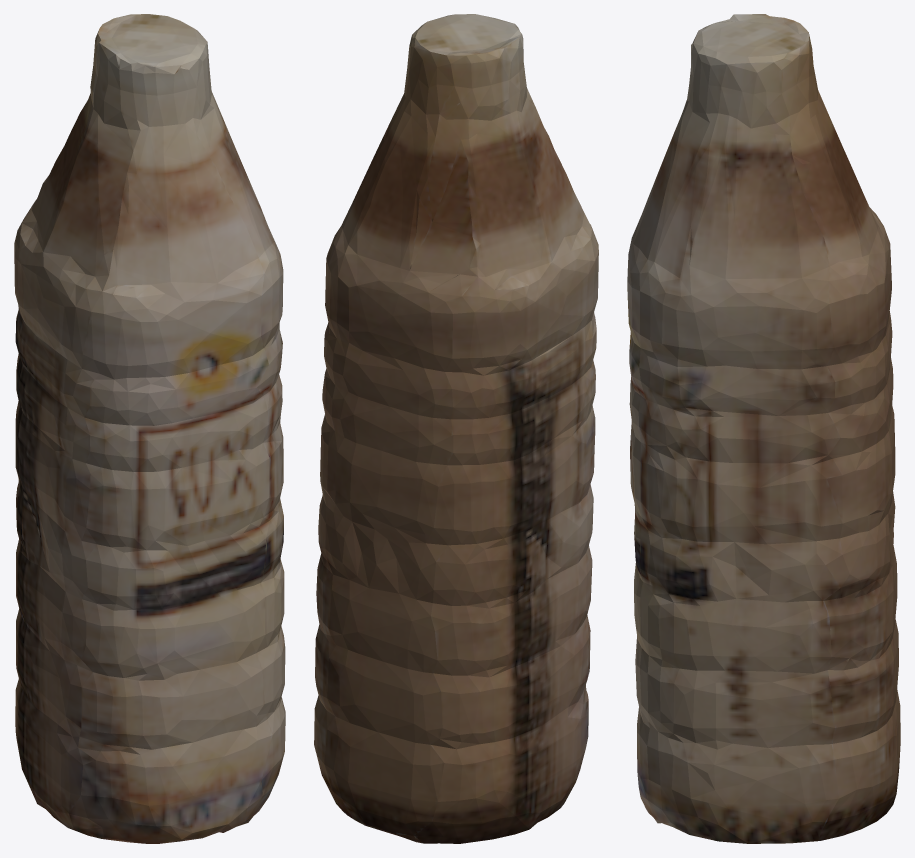
File: textured.vis.glb
The picture shows the model from 3 angles, left to right: view 1: azimuth 30°, elevation 25°; view 2: azimuth 150°, elevation 25°; view 3: azimuth 270°, elevation 25°; orthographic projection.
Visible parts, largest first — view 1: remeshed.obj; view 2: remeshed.obj; view 3: remeshed.obj.
Boxes of the visible parts, x1,y1,x2,y2 form: remeshed.obj: [14, 14, 285, 843]; remeshed.obj: [314, 14, 598, 843]; remeshed.obj: [627, 14, 900, 843].
Bounding box in the file's own units: 0.06 × 0.2015 × 0.0651.
Materials: 1 (1 with a texture image).
